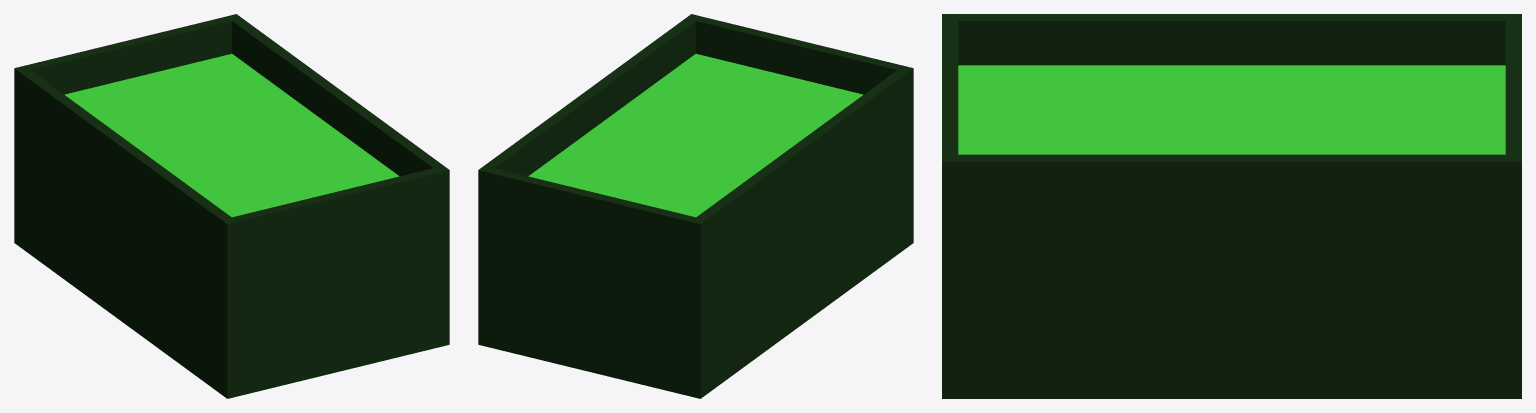
The model's file is MSH_Macetera.FBX.
3 views of the same model, side by side, from view 1: azimuth 30°, elevation 25°; view 2: azimuth 150°, elevation 25°; view 3: azimuth 270°, elevation 25° (orthographic). The views are drawn at different scales.
Visible parts, largest first — view 1: MSH_Macetera; view 2: MSH_Macetera; view 3: MSH_Macetera.
Boxes of the visible parts, x1,y1,x2,y2 form: MSH_Macetera: (14, 14, 449, 398); MSH_Macetera: (478, 14, 913, 398); MSH_Macetera: (942, 14, 1521, 398).
Bounding box in the file's own units: 107 × 80 × 177.
